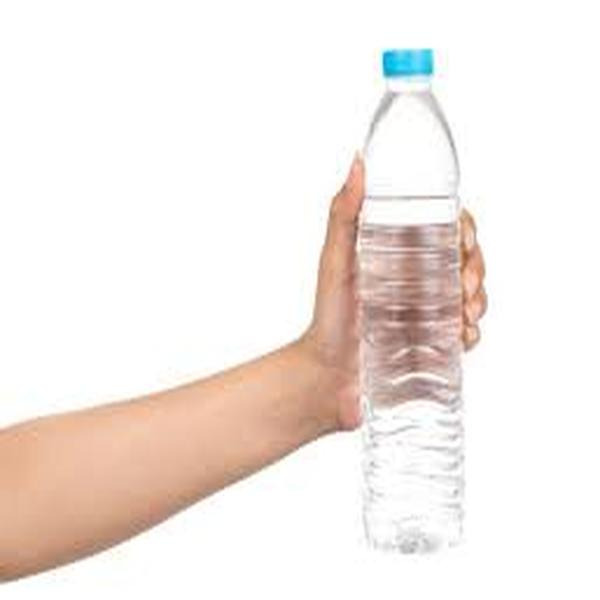tutuma: (343, 34, 484, 557)
